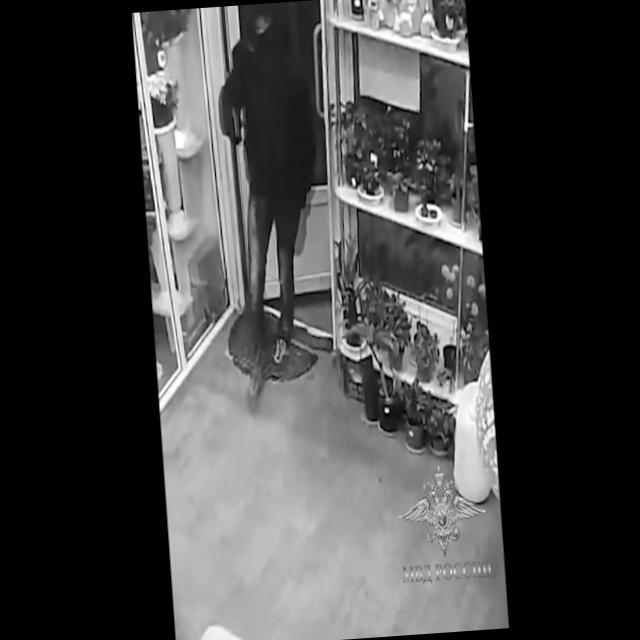gun: (220, 86, 248, 162)
person with a gun: (212, 7, 336, 374)
